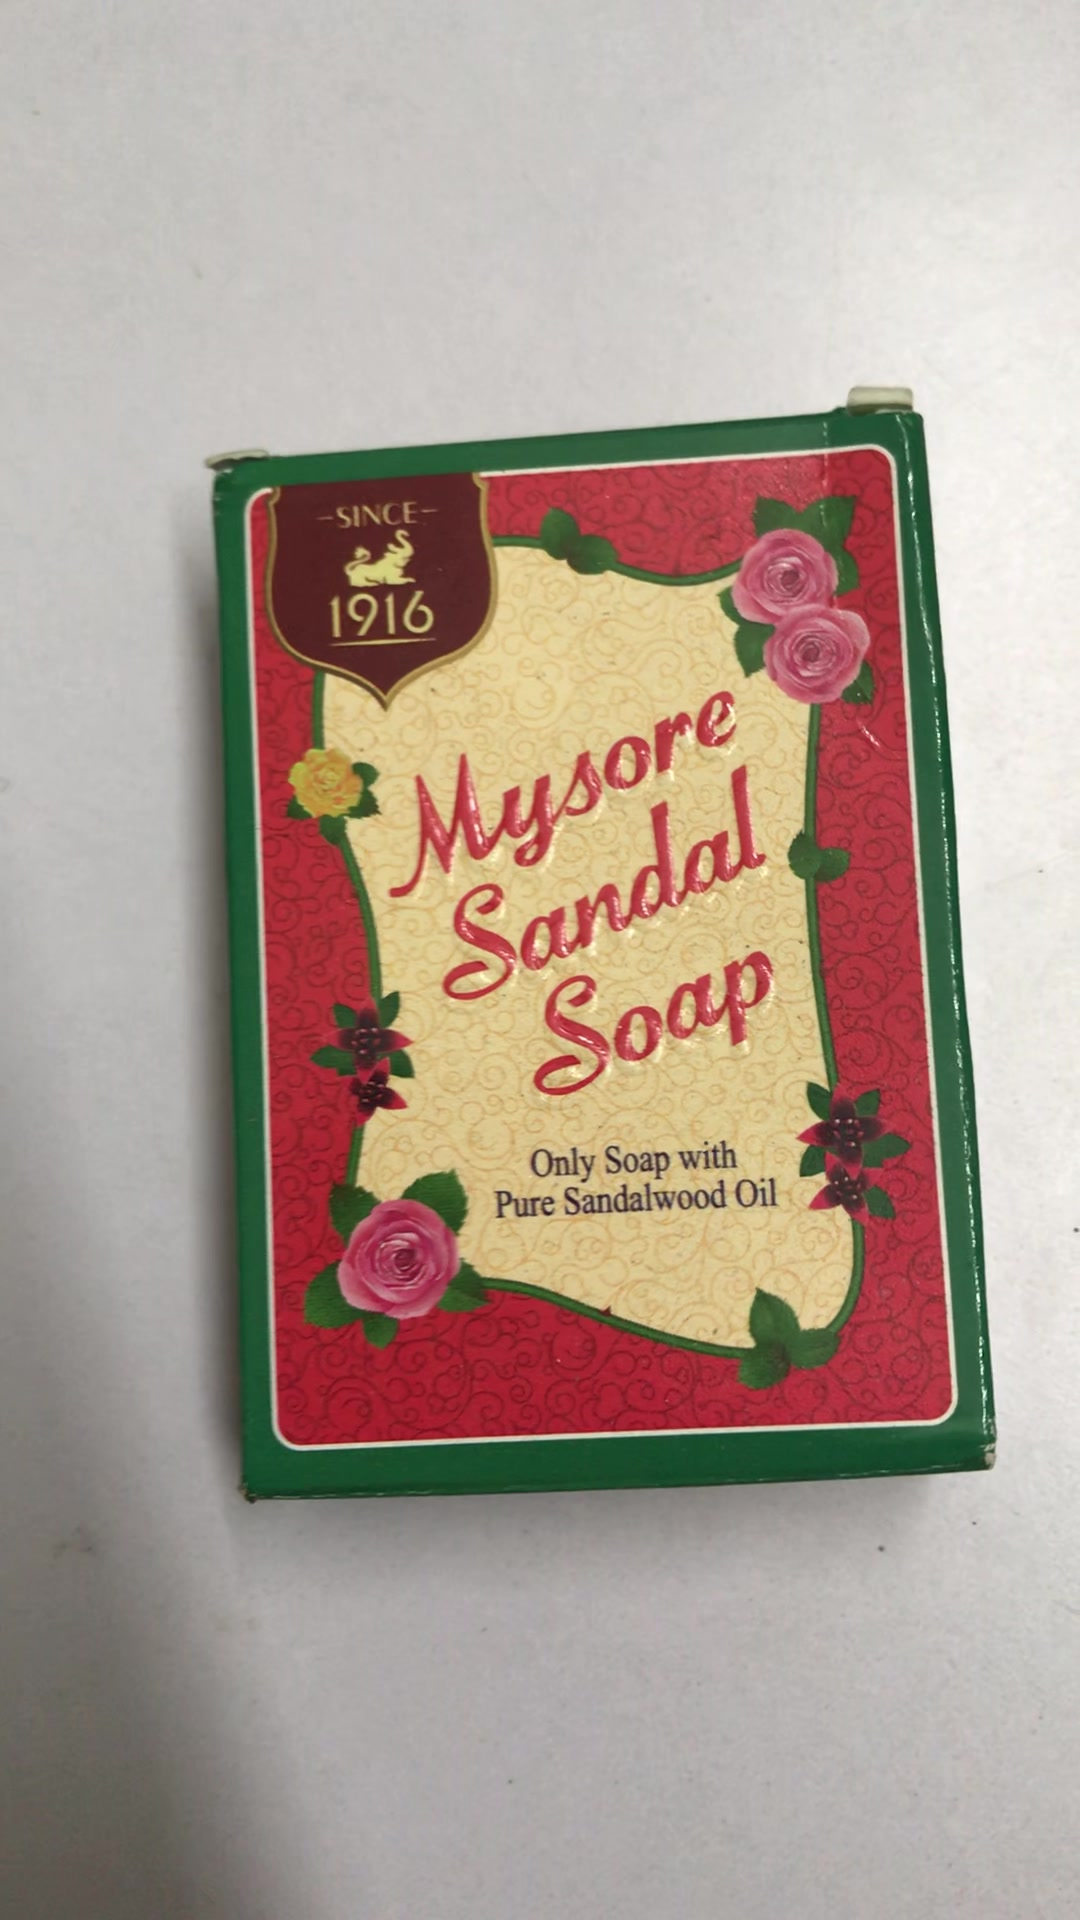mysore sandal soap: (222, 406, 993, 1494)
